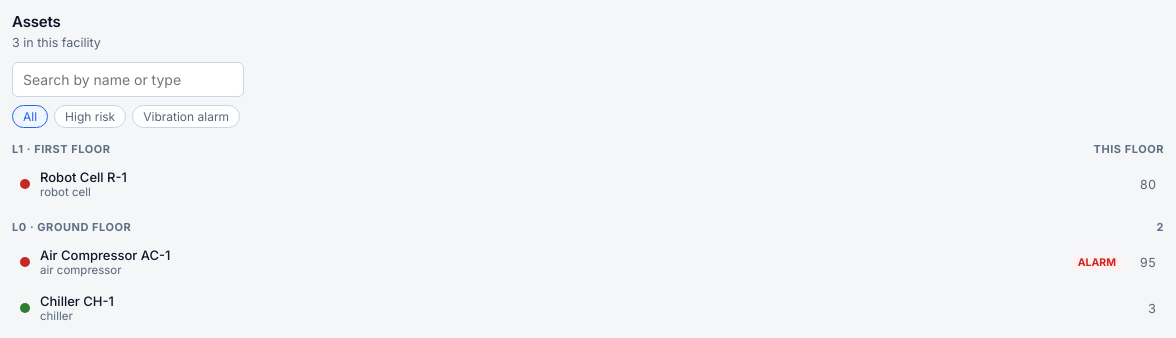
it: AssetBrowser › filters to high-risk assets and to vibration alarms, and says when nothing matches
This screenshot has width=1176, height=338.
Click the button "High risk" at x=90, y=116, box [54,105,126,128]
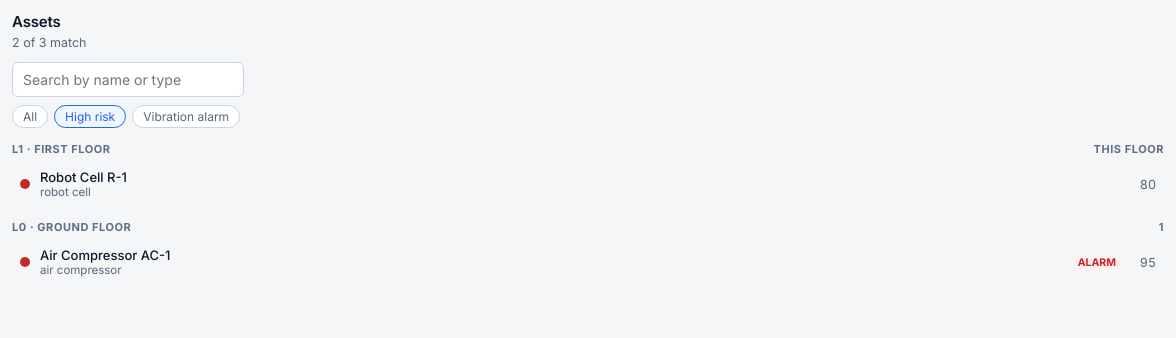
Expected: the text "Air Compressor AC-1" is shown, [40,247,170,263]
Expected: the button "Chiller CH-1" is gone
Click the button "Vibration alarm" at x=186, y=116, box [132,105,240,128]
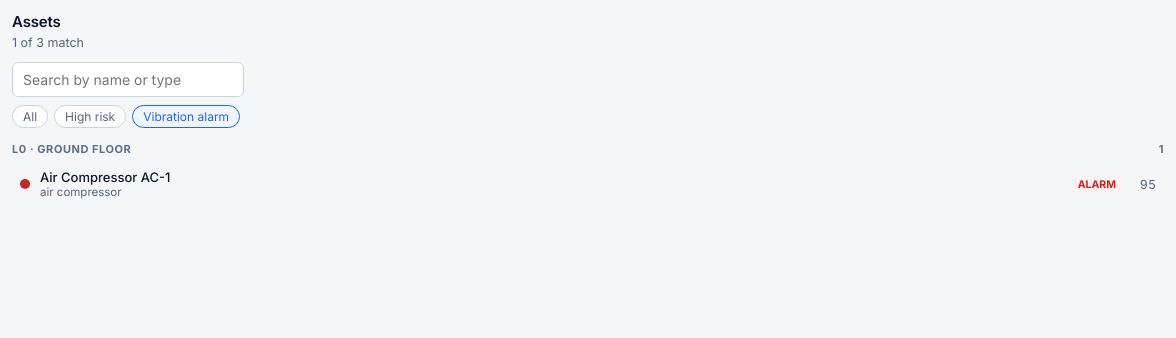
Expected: the button "Robot Cell R-1" is gone
Type "zzz" into the search field named "Search assets" at x=128, y=80, box [12,62,244,97]
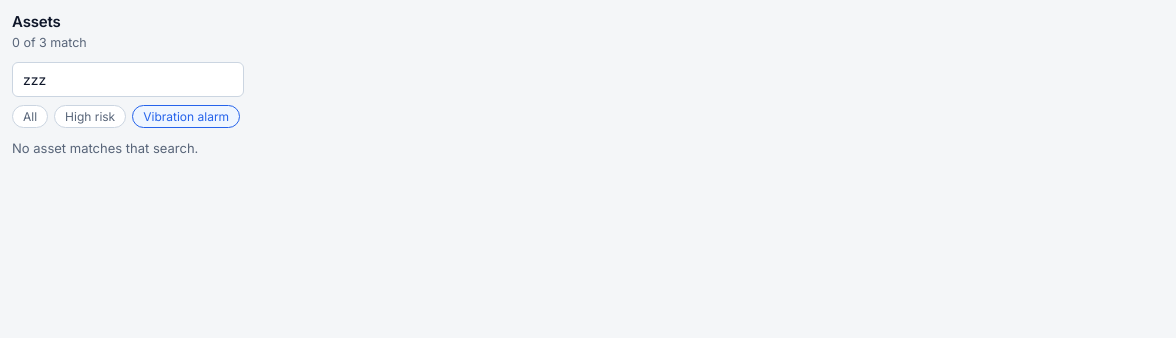
Expected: the text "No asset matches that search." is shown, [12,140,198,156]
